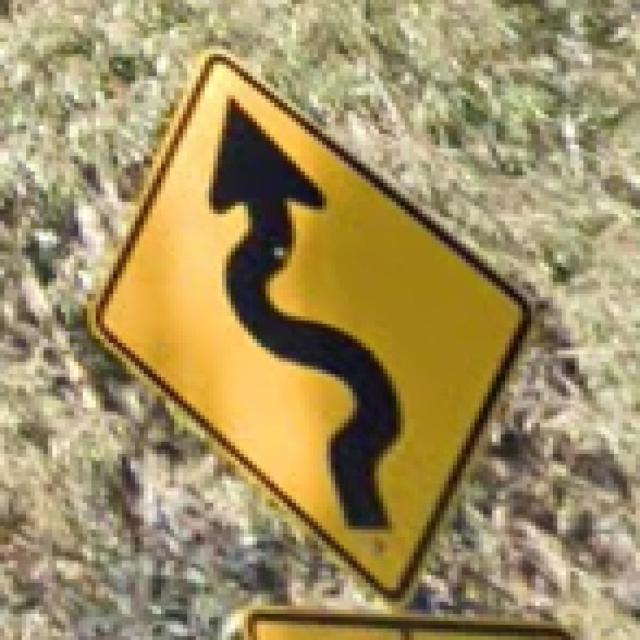Banyak Tikungan Pertama Kanan: (74, 41, 540, 610)
